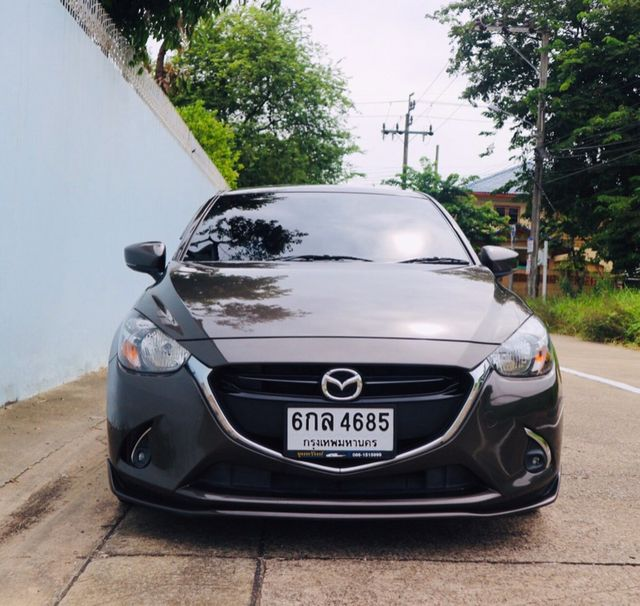sedan: (103, 180, 567, 525)
